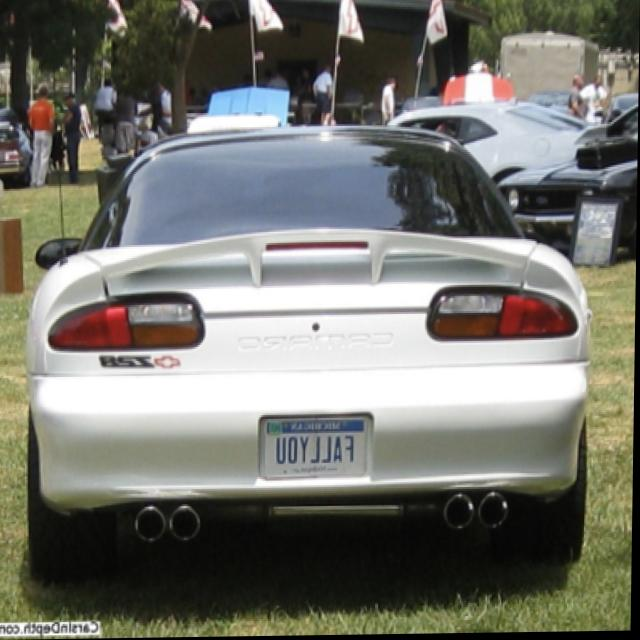licence: (265, 421, 370, 480)
